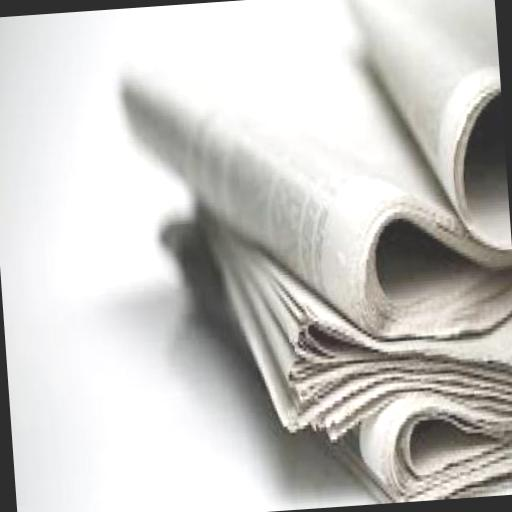paper: (117, 27, 512, 346), (195, 179, 512, 448), (339, 0, 510, 257), (321, 375, 512, 504)
